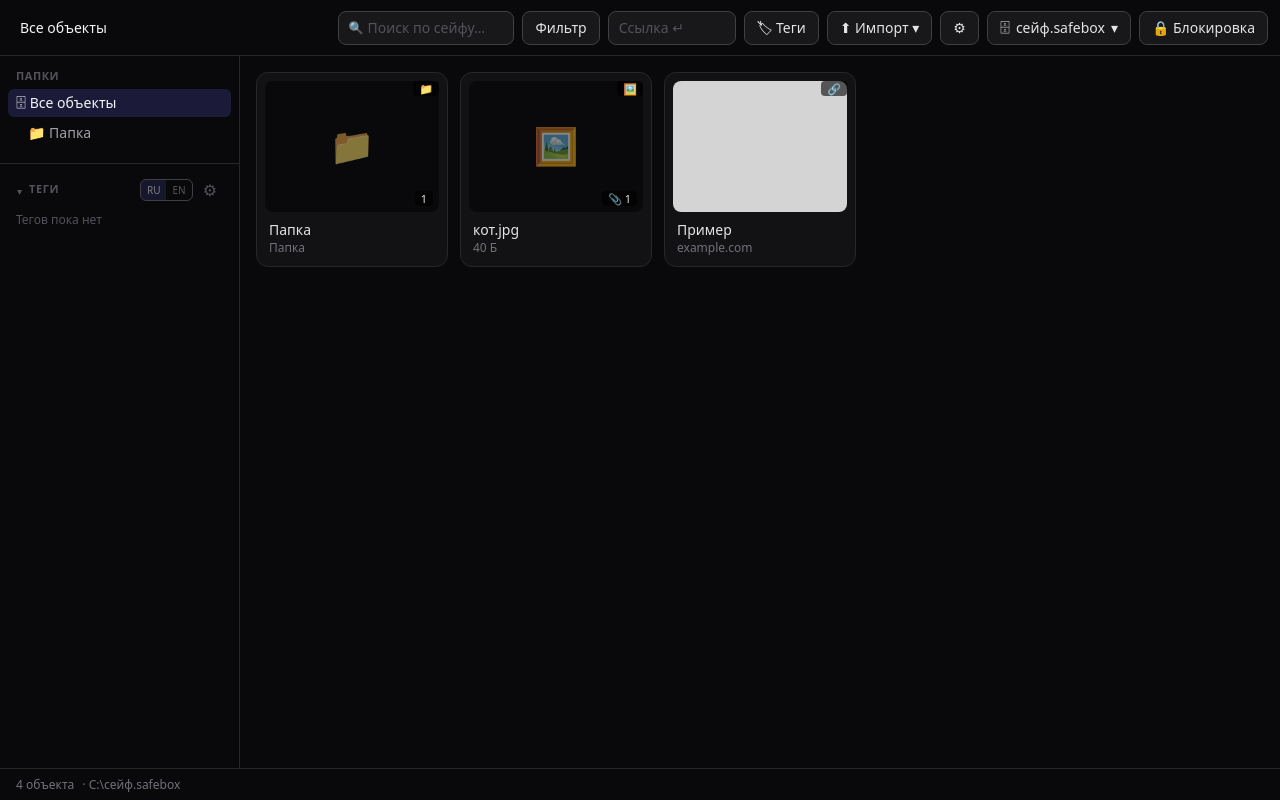
it: поле «Ссылка» (UF-20) › адрес + Enter: ссылка создана, поле очищено, окон нет
Check: the text "кот.jpg" is shown, box [473,220,519,240]
Step 1. Type "https://example.org/page" into the field labelled "Ссылка" → (672, 28), box [608,10,736,44]
Then press Enter
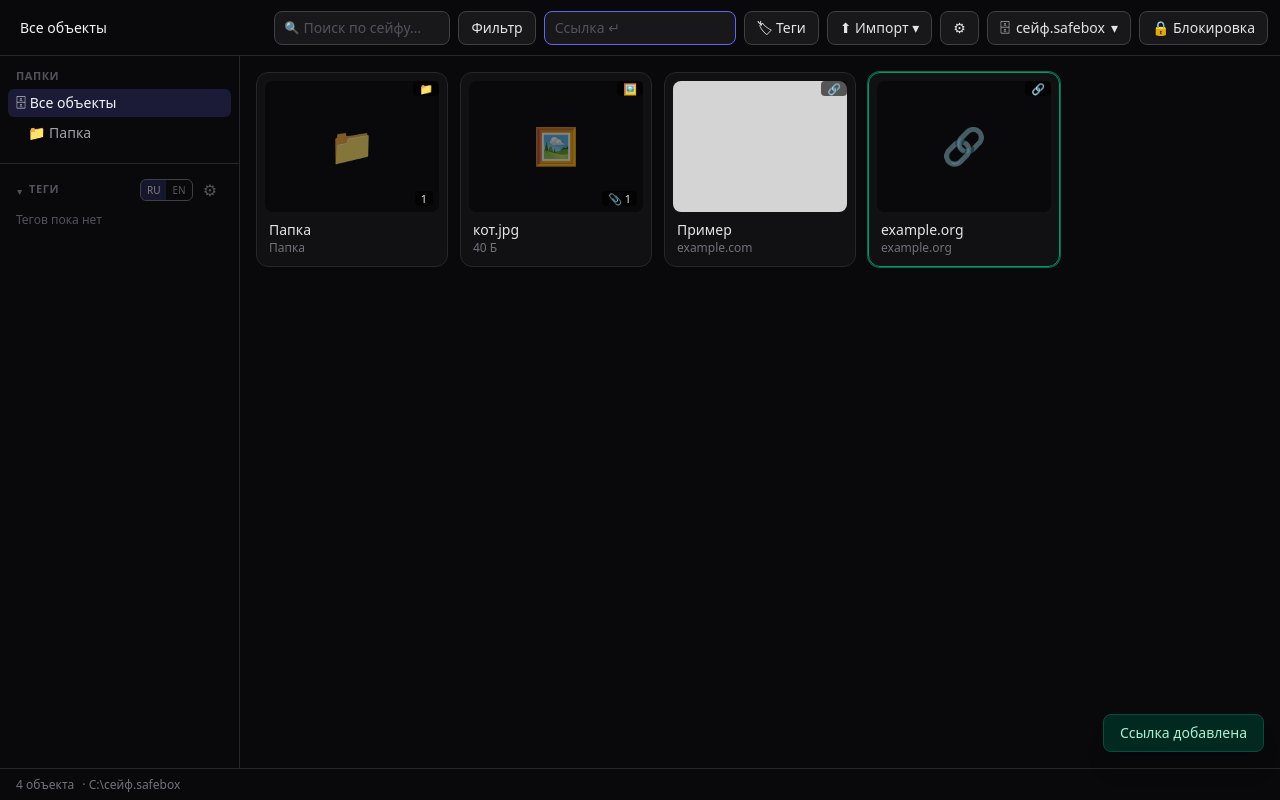
Check: the field labelled "Ссылка" is empty, box [544,10,736,44]
Check: the text "Ссылка добавлена" is shown, box [1103,714,1264,752]
